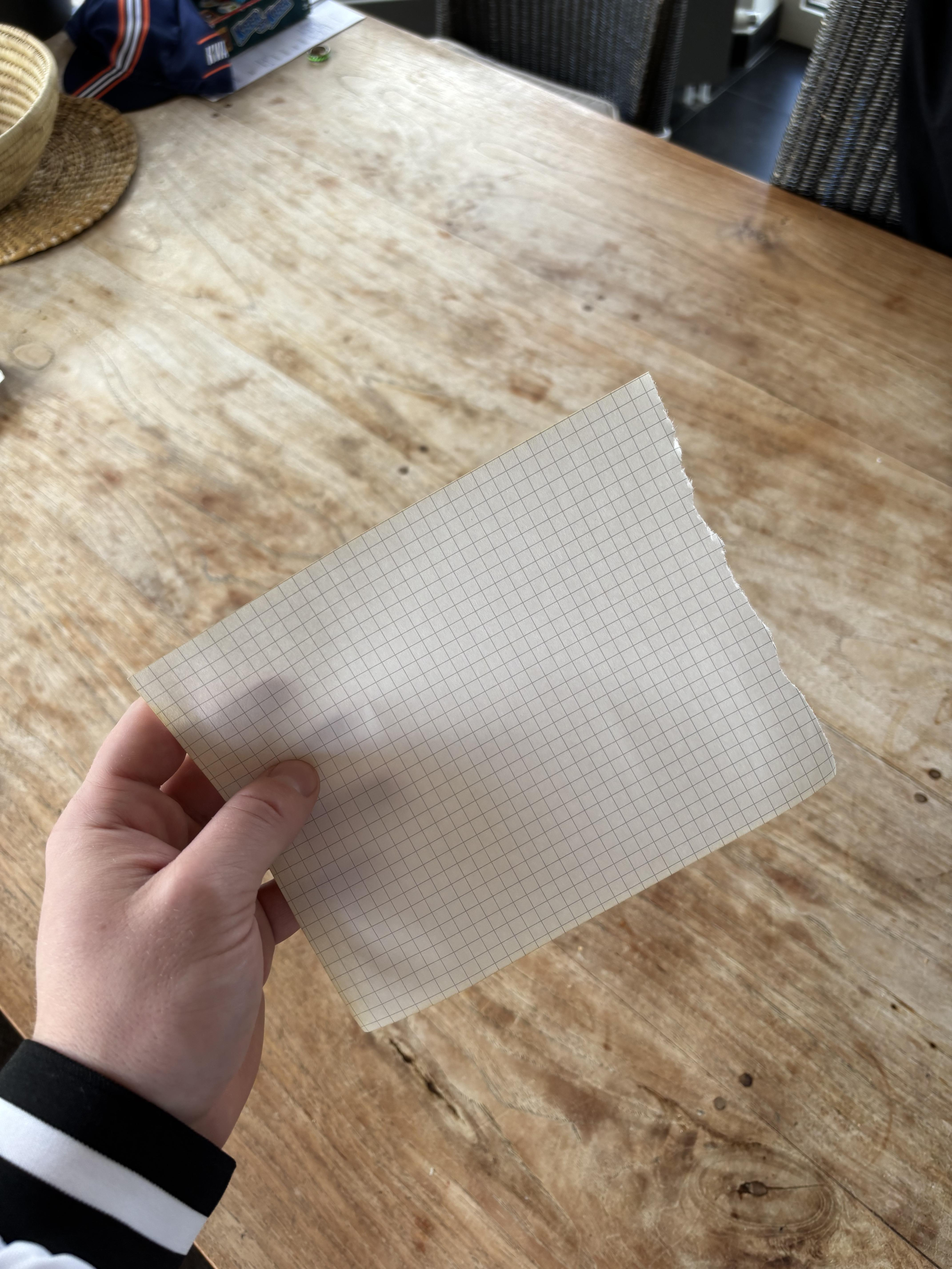Paper: (120, 369, 850, 1041)
